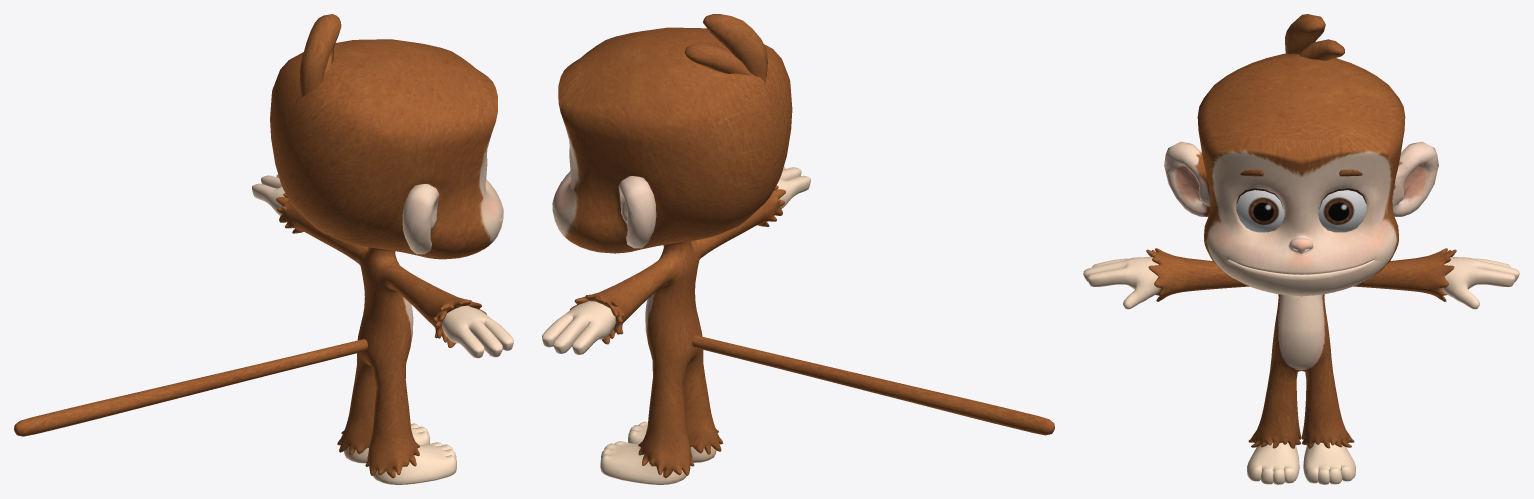
The model's file is singe.glb.
The picture shows the model from 3 angles, left to right: view 1: azimuth 30°, elevation 25°; view 2: azimuth 150°, elevation 25°; view 3: azimuth 270°, elevation 25°; orthographic projection. The views are drawn at different scales.
Parts seen in each view (by area): view 1: Object_2; view 2: Object_2; view 3: Object_2.
Part boxes in pixels (x1,y1,x2,y2): Object_2: (14, 14, 513, 484); Object_2: (542, 14, 1054, 484); Object_2: (1083, 14, 1519, 484).
Bounding box in the file's own units: 0.713 × 0.6597 × 0.6157.
Materials: 1 (1 with a texture image).
